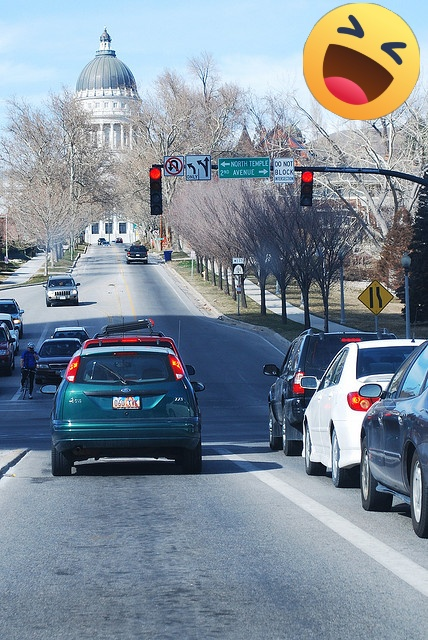haha: (303, 3, 420, 120)
